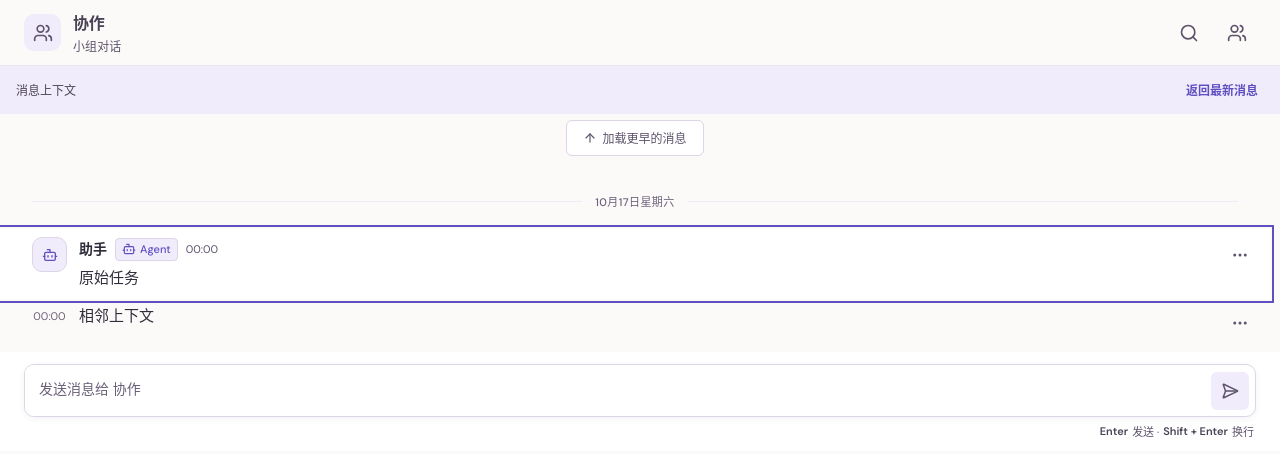
reply navigation › retains an attention source as reply context without reading newer cached messages
Click the button "返回最新消息". click: (1222, 90)
box: [1180,74,1264,106]
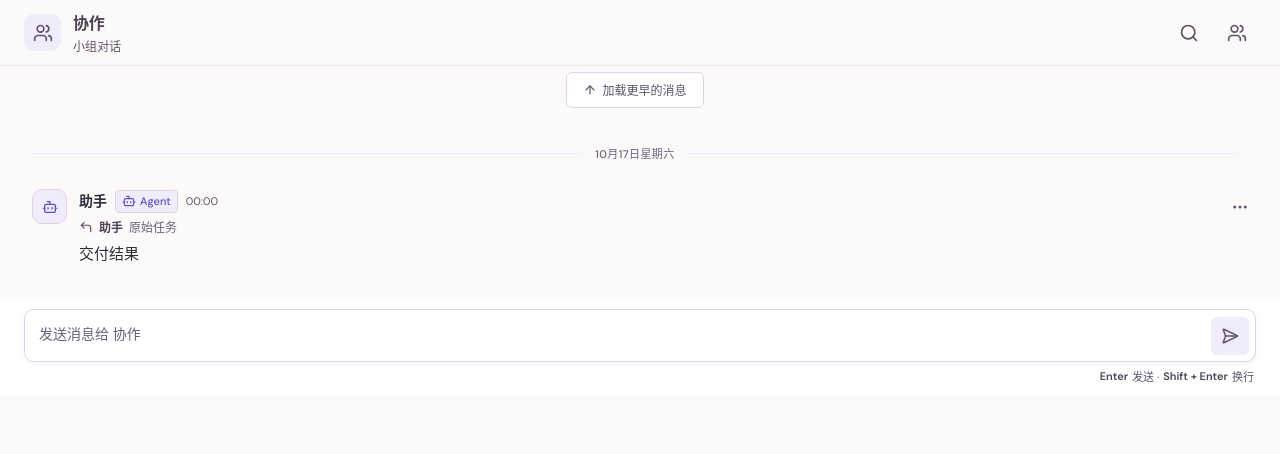
Result: the message with class "located-banner" is gone
Result: the text "交付结果" is shown at [79,244,139,264]
Result: the button with class "message-reply" shows "原始任务" at [79,218,177,236]
